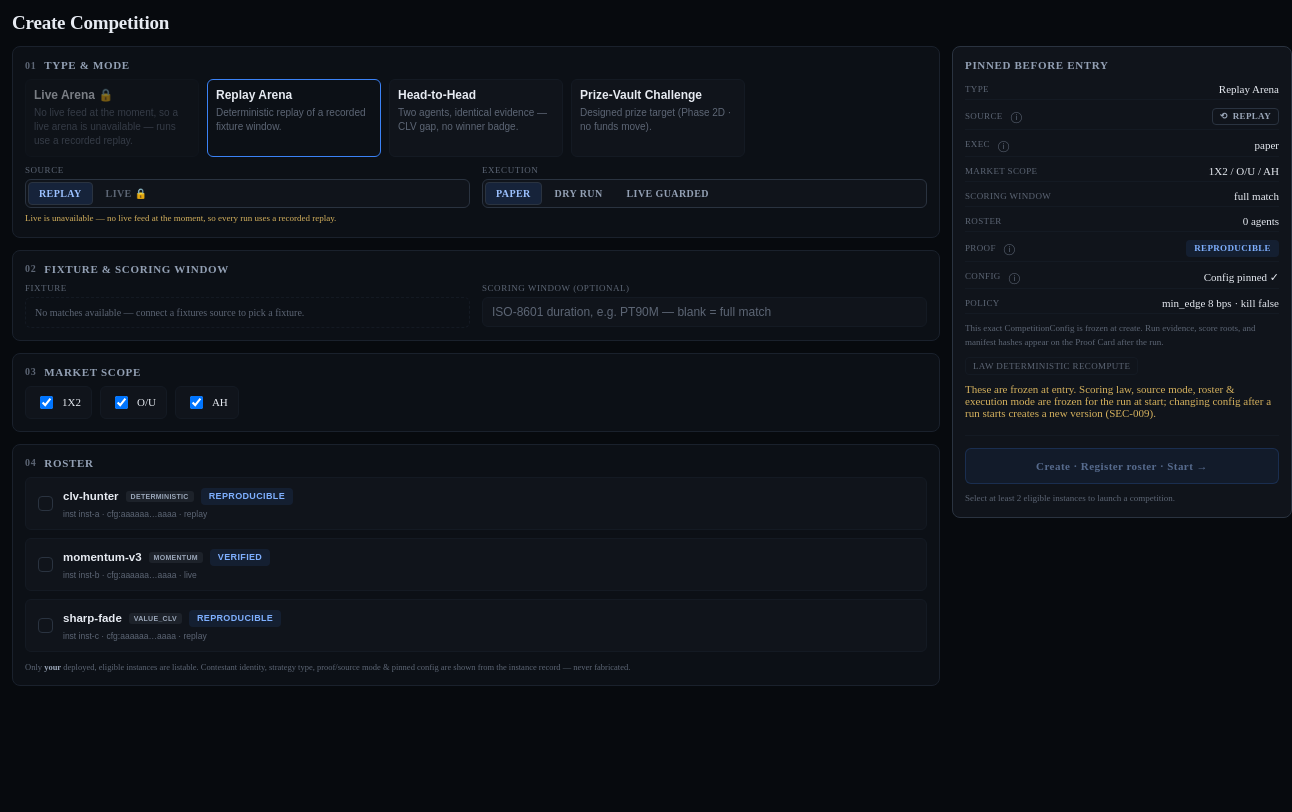
it: CreateCompetitionScreen — launch progression (F-4 · create→register→start) › partial failure: one instance fails to register → surfaces retry + start-with-the-rest, no fabricated start
The width and height of the screenshot is (1292, 812).
Click the button with test id "roster-inst-a".
click(91, 496)  # box [25,477,927,530]
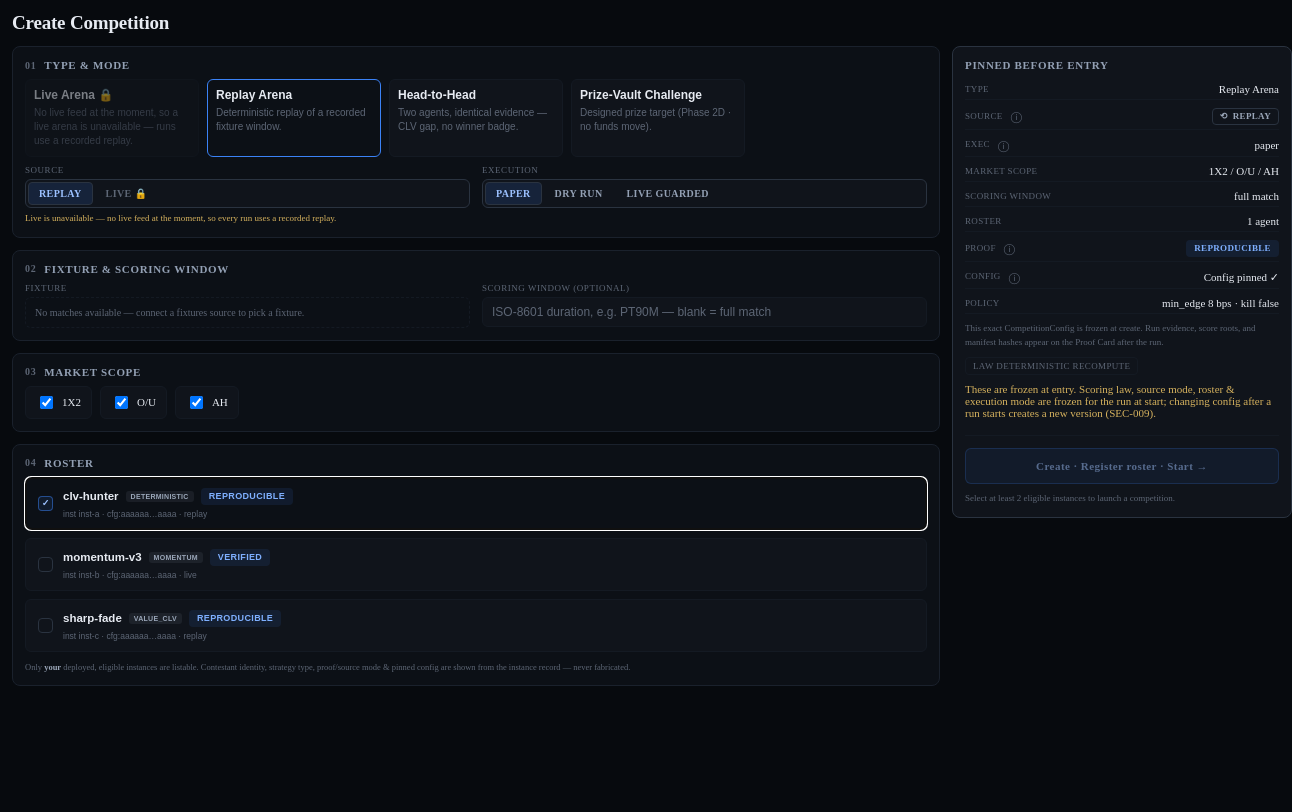
Click the button with test id "roster-inst-b".
click(102, 557)  # box [25,538,927,591]
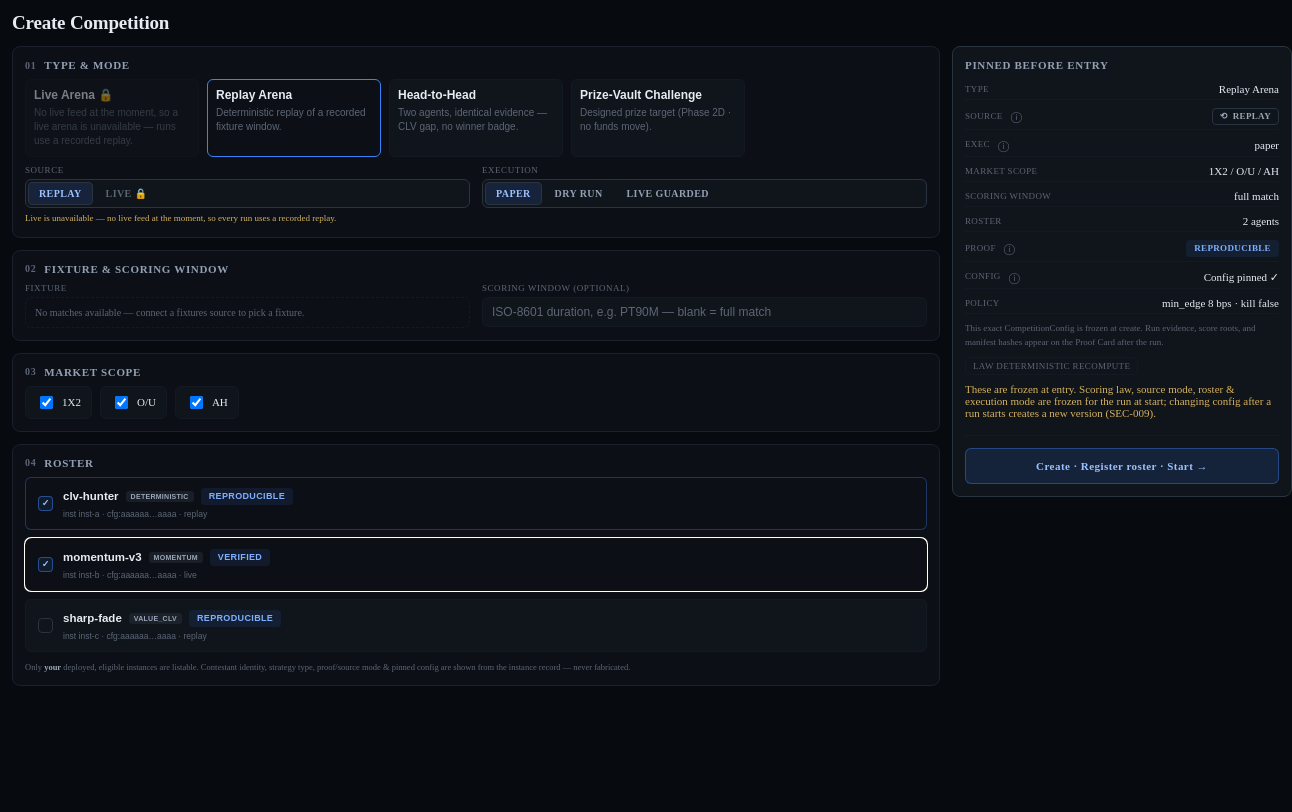
Click the button with test id "roster-inst-c".
click(92, 618)  # box [25,599,927,652]
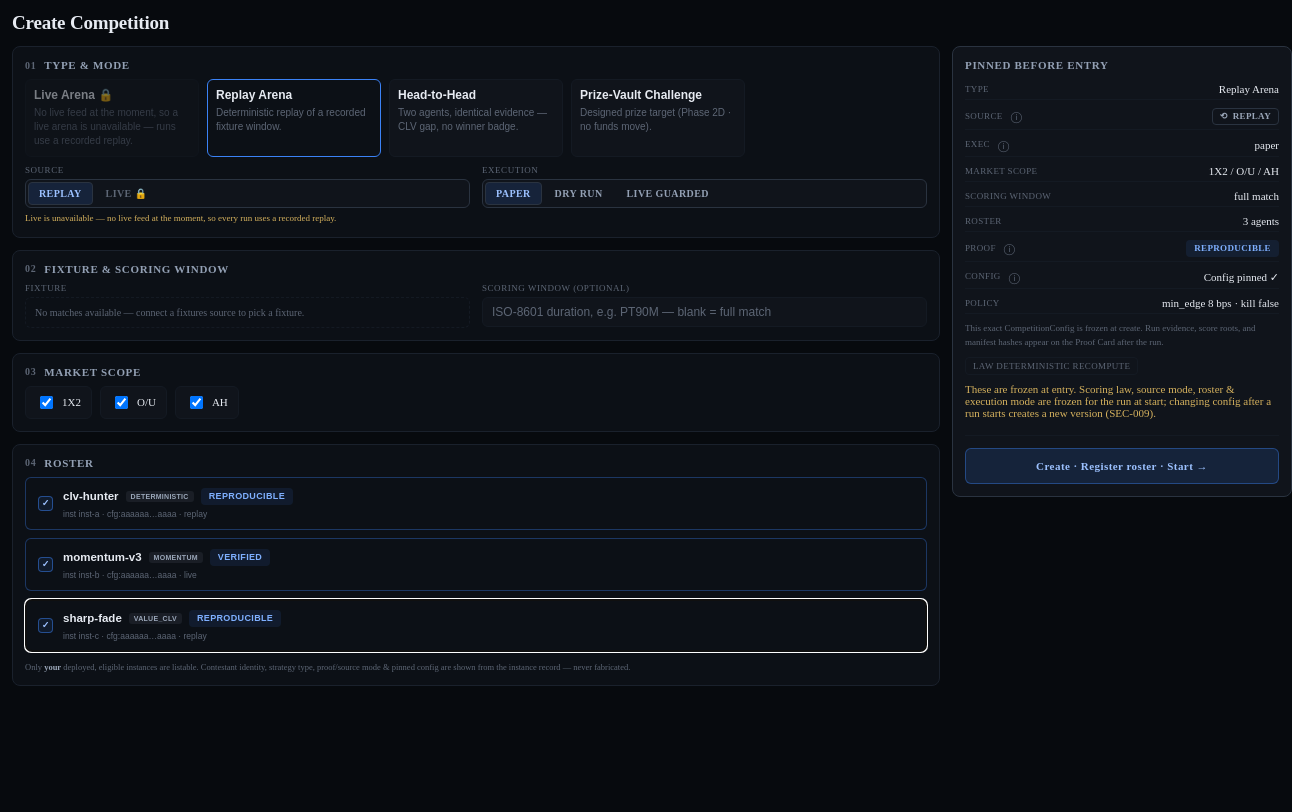
Click the button with test id "launch-button".
click(1122, 466)  # box [965,448,1279,484]
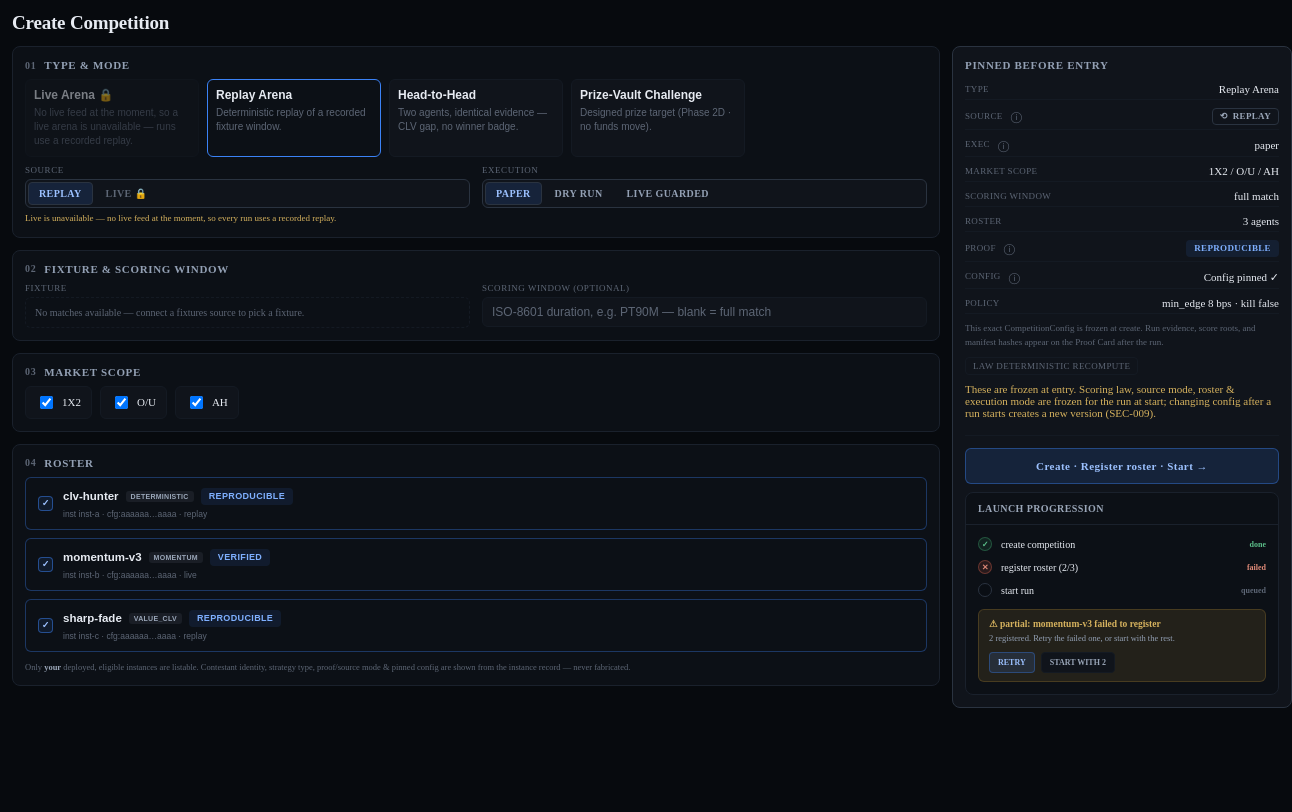
Expected: the element with test id "launch-partial" shows "momentum-v3 failed to register", [978,609,1266,682]
Expected: the button with test id "launch-retry" is shown, [989,652,1035,673]
Expected: the button with test id "launch-start-rest" reads "START WITH 2", [1041,652,1115,673]
